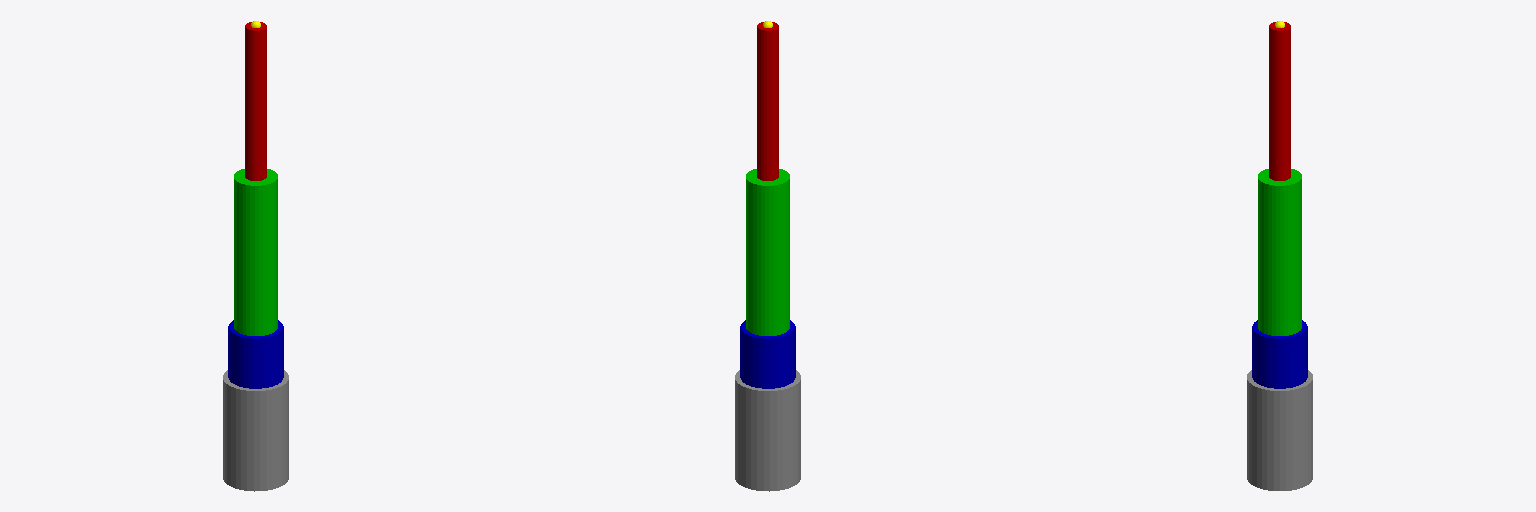
The robot description file, URDF, robot "simple__arm":
<?xml version="0.0"?>
<robot name="simple__arm">

  <!-- BASE LINK -->
  <link name="base_link">
    <inertial>
      <origin xyz="0 0 0.05"/>
      <mass value="0.5"/>
      <inertia ixx="0.001" iyy="0.001" izz="0.001" ixy="0" ixz="0" iyz="0"/>
    </inertial>
    <visual>
      <origin xyz="0 0 0.05"/>
      <geometry>
        <cylinder length="0.1" radius="0.03"/>
      </geometry>
      <material name="gray">
        <color rgba="0.6 0.6 0.6 1"/>
      </material>
    </visual>
    <collision>
      <origin xyz="0 0 0.05"/>
      <geometry>
        <cylinder length="0.1" radius="0.03"/>
      </geometry>
    </collision>
  </link>

  <!-- JOINT 1 -->
  <joint name="joint1" type="continuous">
    <parent link="base_link"/>
    <child link="link1"/>
    <origin xyz="0 0 0.10"/>
    <axis xyz="0 0 1"/>
    <dynamics damping="0.1" friction="0.0"/>
  </joint>

  <!-- LINK 1 -->
  <link name="link1">
    <inertial>
      <origin xyz="0 0 0.025"/>
      <mass value="0.3"/>
      <inertia ixx="0.0005" iyy="0.0005" izz="0.0005" ixy="0" ixz="0" iyz="0"/>
    </inertial>
    <visual>
      <origin xyz="0 0 0.025"/>
      <geometry>
        <cylinder length="0.05" radius="0.025"/>
      </geometry>
      <material name="blue">
        <color rgba="0 0 0.8 1"/>
      </material>
    </visual>
    <collision>
      <origin xyz="0 0 0.025"/>
      <geometry>
        <cylinder length="0.05" radius="0.025"/>
      </geometry>
    </collision>
  </link>

  <!-- JOINT 2 -->
  <joint name="joint2" type="continuous">
    <parent link="link1"/>
    <child link="link2"/>
    <origin xyz="0 0 0.05"/>
    <axis xyz="0 1 0"/>
    <dynamics damping="0.1" friction="0.0"/>
  </joint>

  <!-- LINK 2 -->
  <link name="link2">
    <inertial>
      <origin xyz="0 0 0.075"/>
      <mass value="0.2"/>
      <inertia ixx="0.0004" iyy="0.0004" izz="0.0004" ixy="0" ixz="0" iyz="0"/>
    </inertial>
    <visual>
      <origin xyz="0 0 0.075"/>
      <geometry>
        <cylinder length="0.15" radius="0.02"/>
      </geometry>
      <material name="green">
        <color rgba="0 0.8 0 1"/>
      </material>
    </visual>
    <collision>
      <origin xyz="0 0 0.075"/>
      <geometry>
        <cylinder length="0.15" radius="0.02"/>
      </geometry>
    </collision>
  </link>

  <!-- JOINT 3 -->
  <joint name="joint3" type="continuous">
    <parent link="link2"/>
    <child link="link3"/>
    <origin xyz="0 0 0.15"/>
    <axis xyz="0 1 0"/>
    <dynamics damping="0.1" friction="0.0"/>
  </joint>

  <!-- LINK 3 -->
  <link name="link3">
    <inertial>
      <origin xyz="0 0 0.075"/>
      <mass value="0.1"/>
      <inertia ixx="0.0003" iyy="0.0003" izz="0.0003" ixy="0" ixz="0" iyz="0"/>
    </inertial>
    <visual>
      <origin xyz="0 0 0.075"/>
      <geometry>
        <cylinder length="0.15" radius="0.01"/>
      </geometry>
      <material name="red">
        <color rgba="0.8 0 0 1"/>
      </material>
    </visual>
    <collision>
      <origin xyz="0 0 0.075"/>
      <geometry>
        <cylinder length="0.15" radius="0.01"/>
      </geometry>
    </collision>
  </link>

  <!-- JOINT 4: fixed joint for end effector -->
<joint name="joint4" type="fixed">
  <parent link="link3"/>
  <child link="tool_link"/>
  <origin xyz="0 0 0.15"/> <!-- offset along link3 length -->
  <axis xyz="0 0 0"/>
</joint>

<!-- LINK tool_link: small invisible or visual tip -->
<link name="tool_link">
  <inertial>
    <origin xyz="0 0 0"/>
    <mass value="0.01"/>
    <inertia ixx="0.00001" iyy="0.00001" izz="0.00001" ixy="0" ixz="0" iyz="0"/>
  </inertial>
  <visual>
    <origin xyz="0 0 0"/>
    <geometry>
      <sphere radius="0.005"/>
    </geometry>
    <material name="yellow">
      <color rgba="1 1 0 1"/>
    </material>
  </visual>
  <collision>
    <origin xyz="0 0 0"/>
    <geometry>
      <sphere radius="0.005"/>
    </geometry>
  </collision>
</link>


</robot>

--- What the picture shows (computed from the rendered views, not written in the file) ---
Views: 3 orthographic renders of the robot side by side, from view 1: azimuth 30°, elevation 25°; view 2: azimuth 150°, elevation 25°; view 3: azimuth 270°, elevation 25°.
Model simple__arm with 5 links and 4 joints (3 continuous, 1 fixed), rooted at base_link, posed all joints at 0.
Visible links, largest first — view 1: link2, base_link, link3, link1; view 2: link2, base_link, link3, link1; view 3: link2, base_link, link3, link1.
Link boxes in pixels (x1,y1,x2,y2): link2: (234, 169, 277, 335); base_link: (223, 370, 288, 491); link3: (245, 22, 266, 180); link1: (228, 320, 283, 388); link2: (746, 169, 789, 335); base_link: (735, 370, 800, 491); link3: (757, 22, 778, 180); link1: (740, 320, 795, 388); link2: (1258, 169, 1301, 335); base_link: (1247, 370, 1312, 490); link3: (1269, 22, 1290, 180); link1: (1252, 320, 1307, 388).
Size in the robot's own frame: 0.06 by 0.06 by 0.455 metres.
Geometry: primitives only (box / cylinder / sphere), no mesh files.